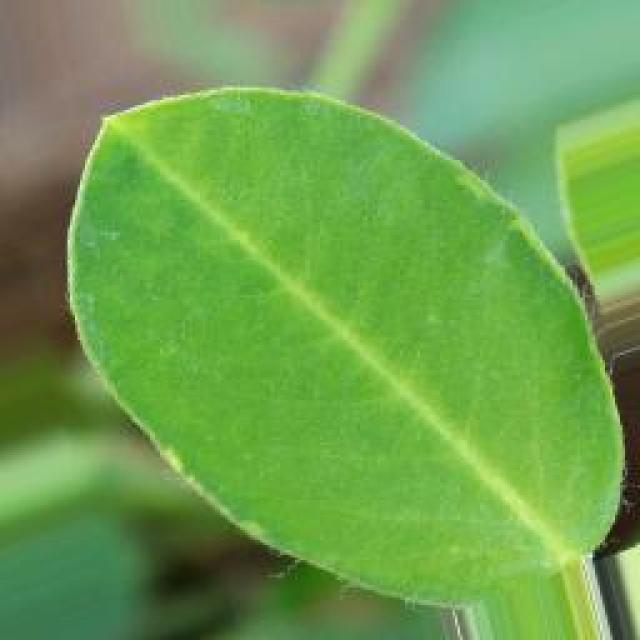Yellow_and_black_sigatoka: (62, 85, 634, 604)
